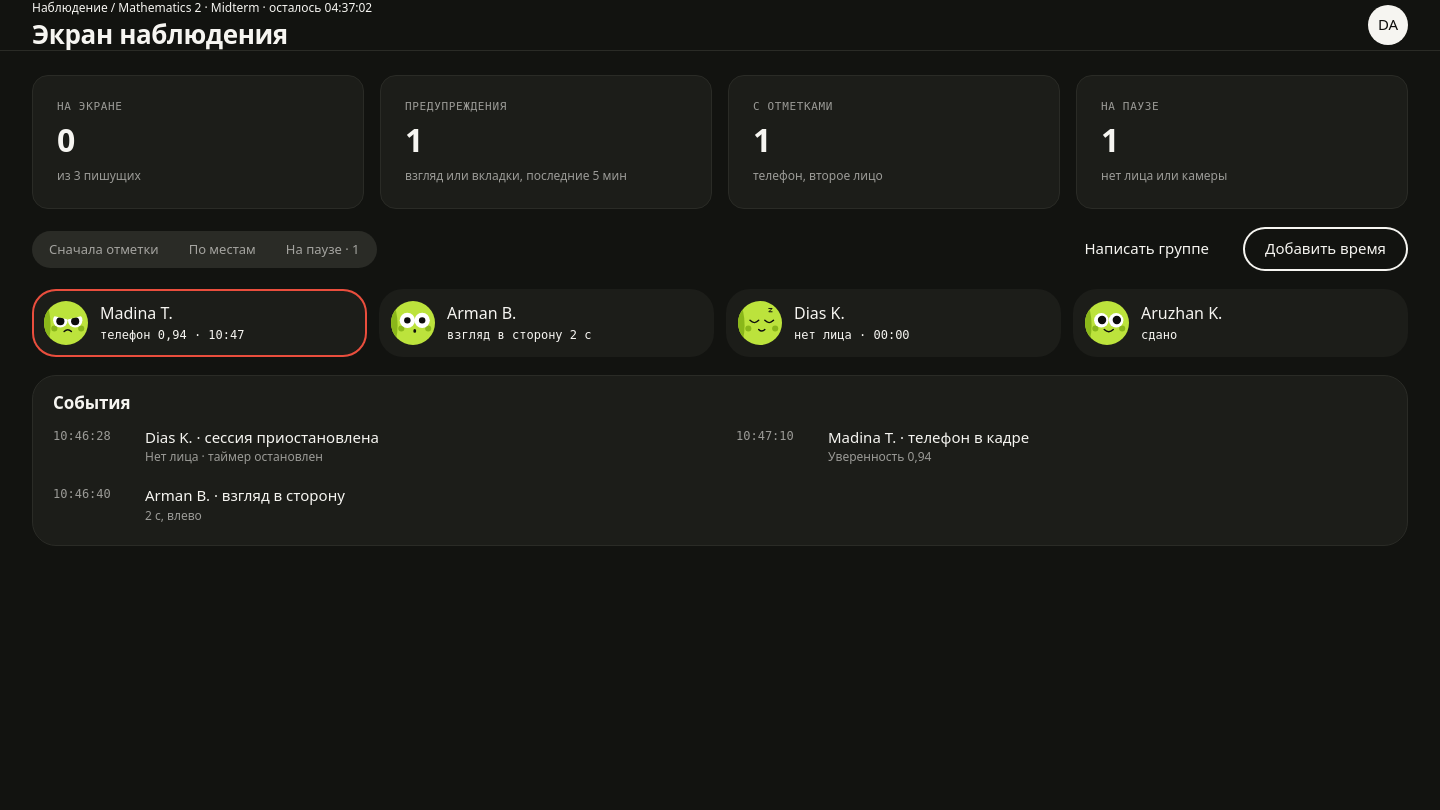
Scenario: 2.4 and 2.5 in Russian › renders the wall, Message group (2.4b), Extend time (2.4c), the tile menu (2.4a) and End (2.4e)
expect the heading "Экран наблюдения" is shown: met, box [32,19,288,50]
Press the mouse on the button "Написать группе" at (1147, 249), box [1062,227,1231,271]
Click the button "Написать группе" at (1147, 249), box [1062,227,1231,271]
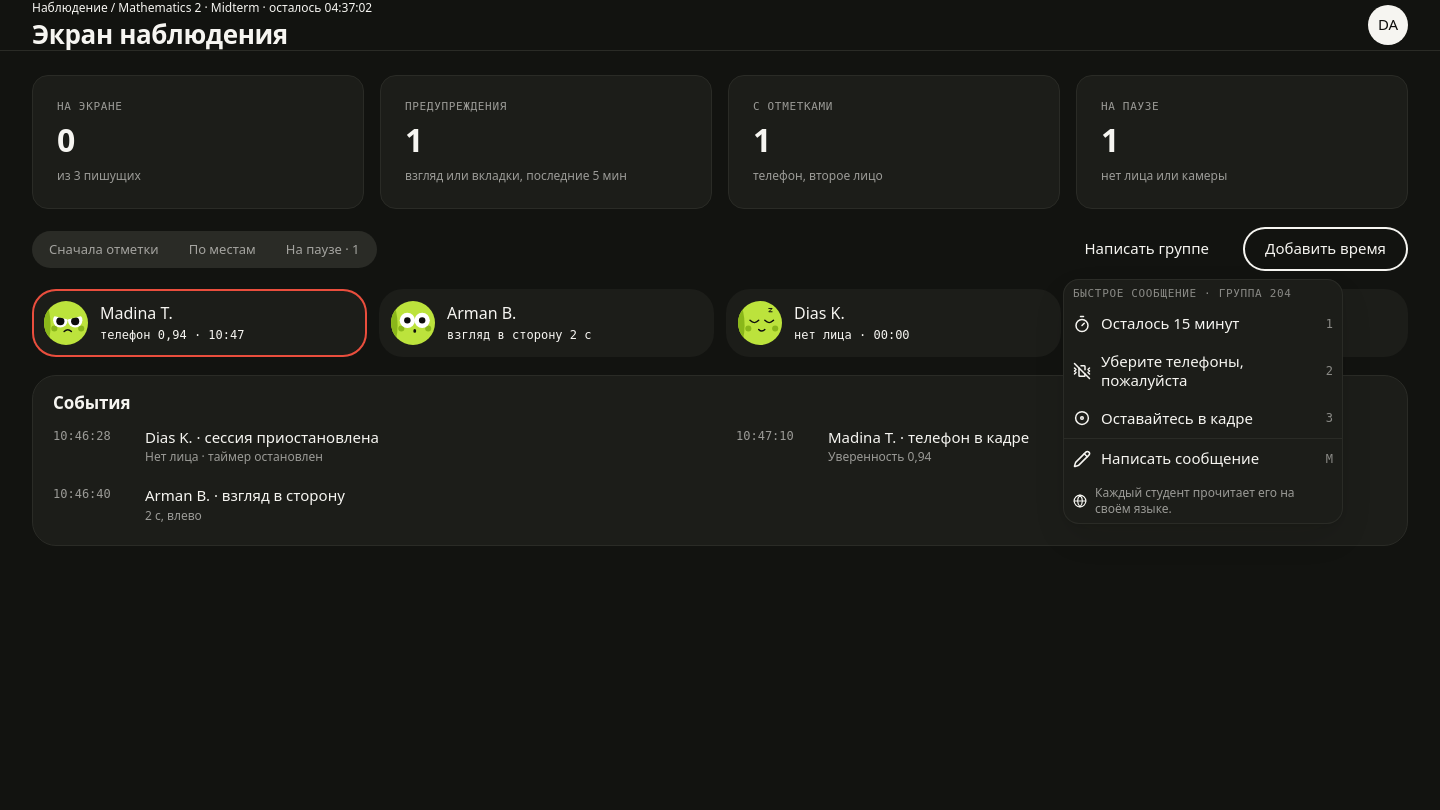
expect the text "Быстрое сообщение · Группа 204" is shown: met, box [1073,287,1292,300]
Press Escape in the menu, box [1063,279,1343,524]
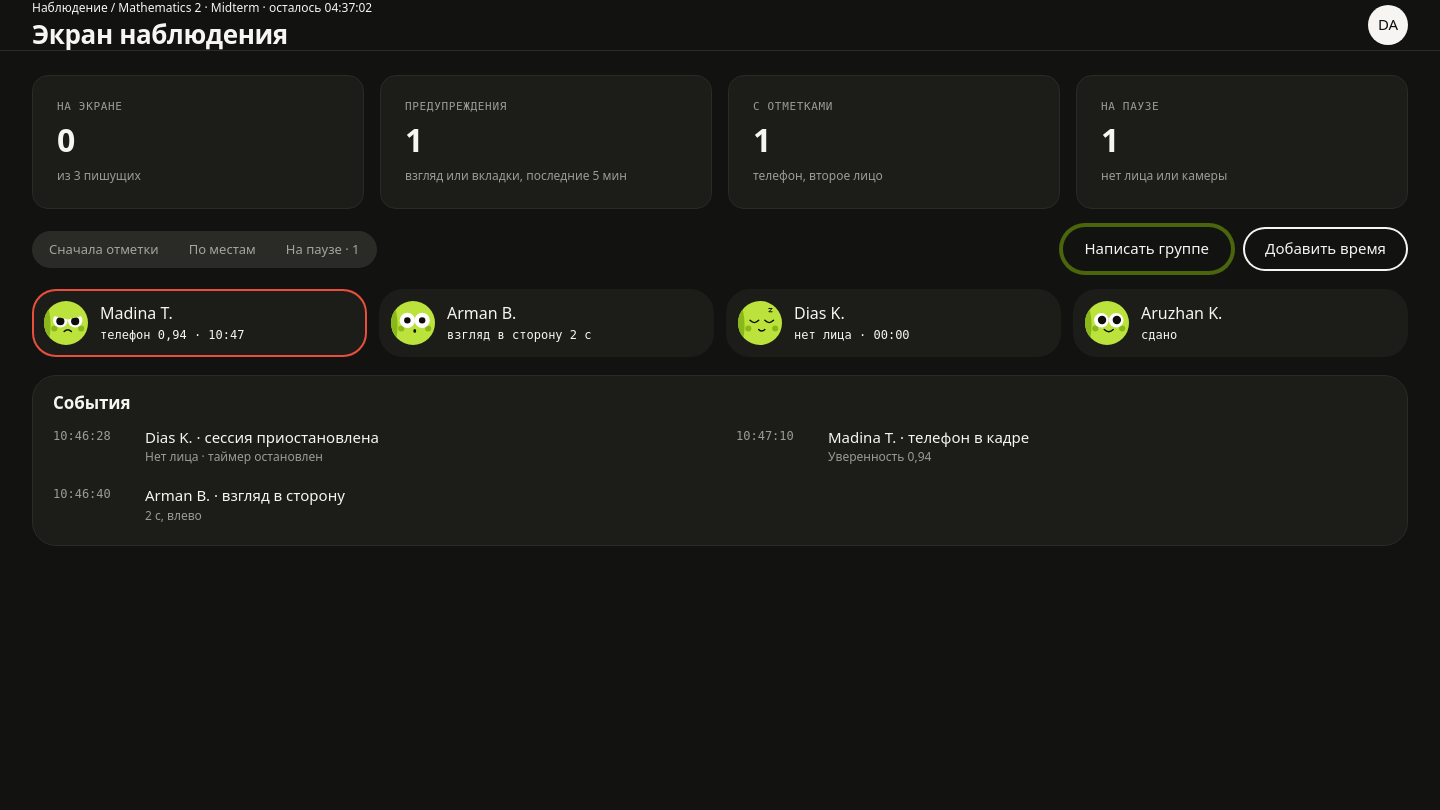
expect the menu is gone: met
Click the button "Добавить время" at (1326, 249), box [1243,227,1408,271]
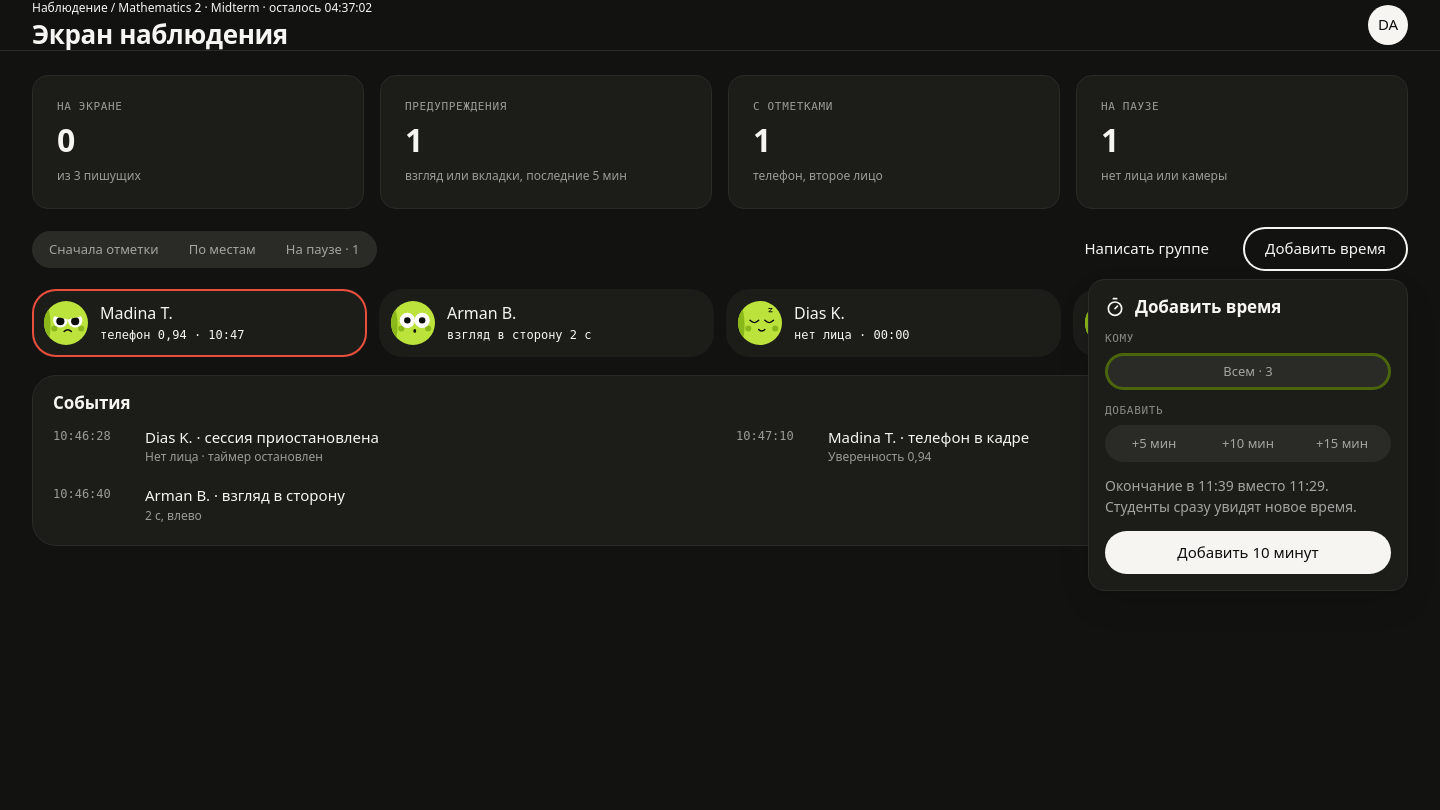
expect the radio button "+5 мин" is shown: met, box [1108,428,1200,459]
Press Escape in the radio button labelled "Всем · 3", box [1108,356,1388,387]
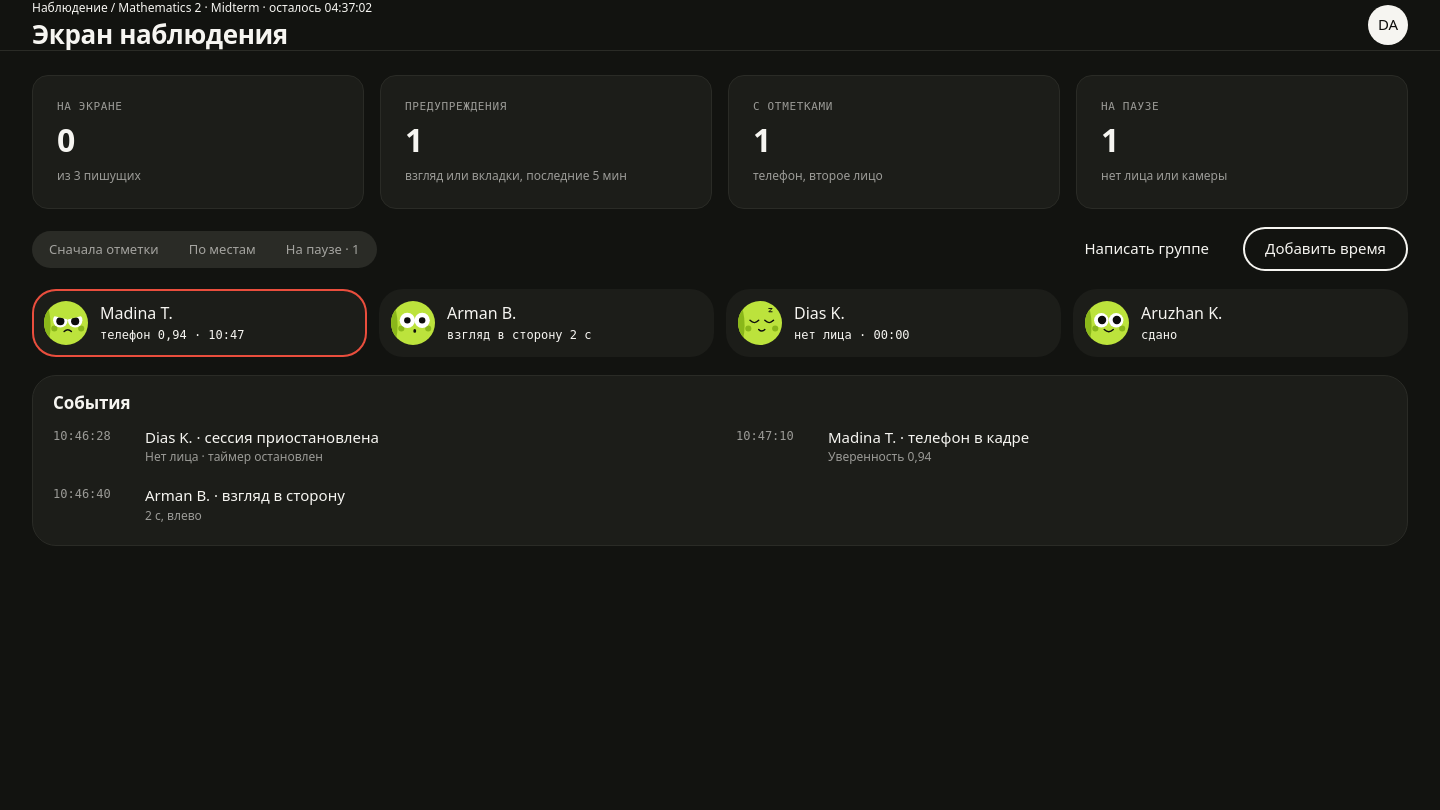
Press Enter in the button "Madina T. телефон 0,94 · 10:47", box [32,289,367,357]
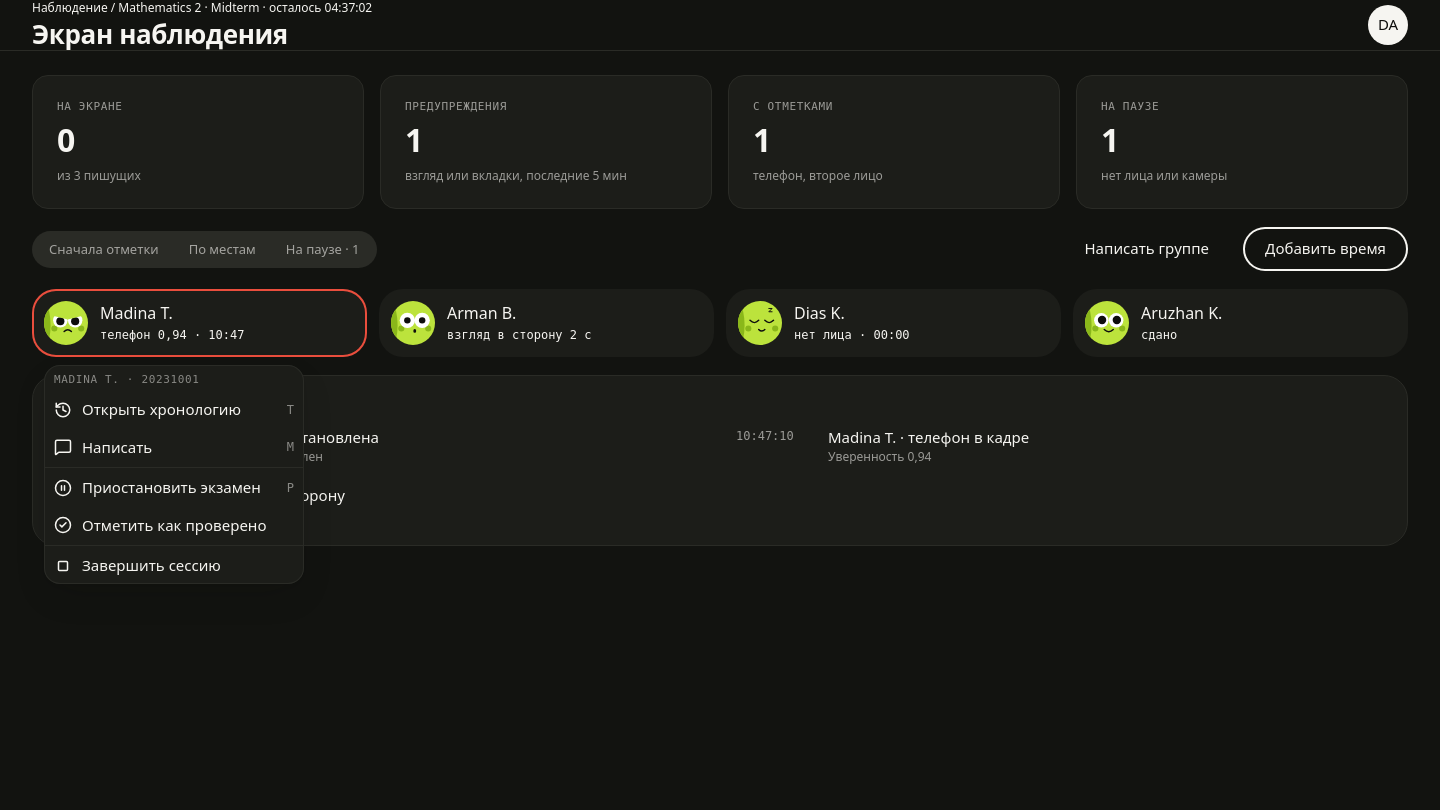
Click the menu item "Завершить сессию" at (137, 565), box [54,555,221,575]
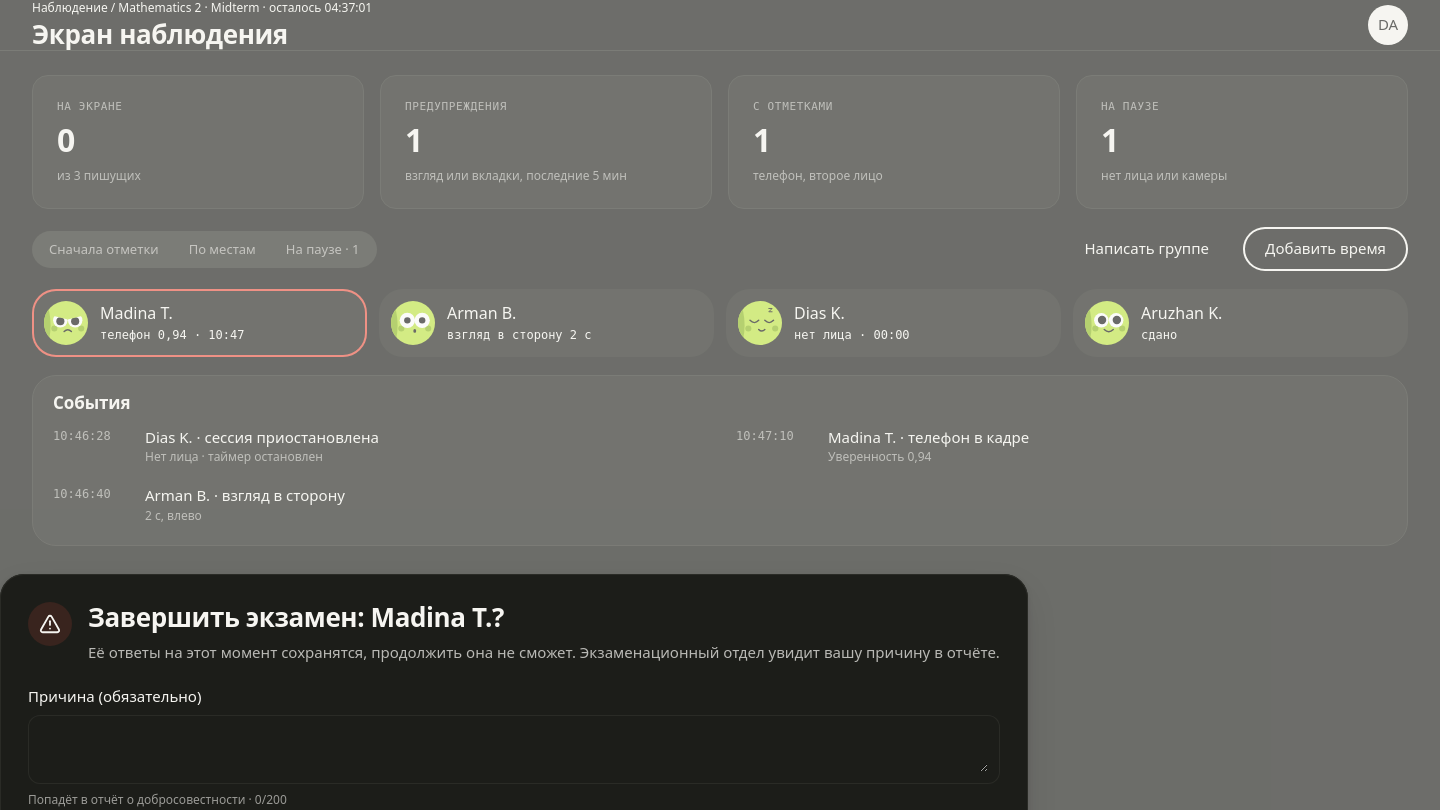
expect the text "Наблюдение / Mathematics 2 · Midterm · осталось 04:37:01" is shown: met, box [32,0,372,16]
expect the text "Причина (обязательно)" is shown: met, box [28,687,201,707]
